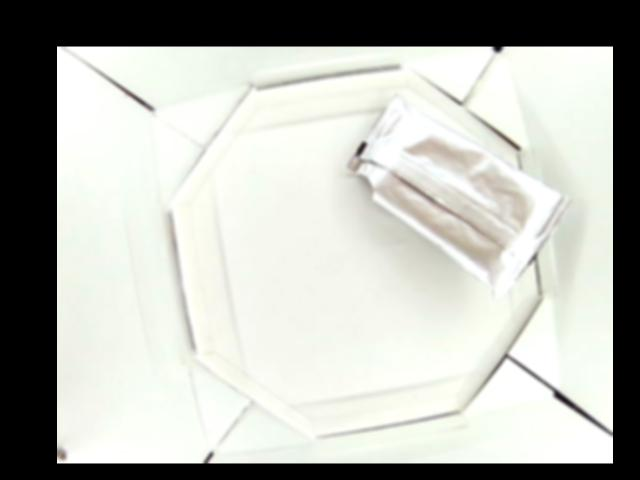Medicine: (344, 91, 568, 300)
